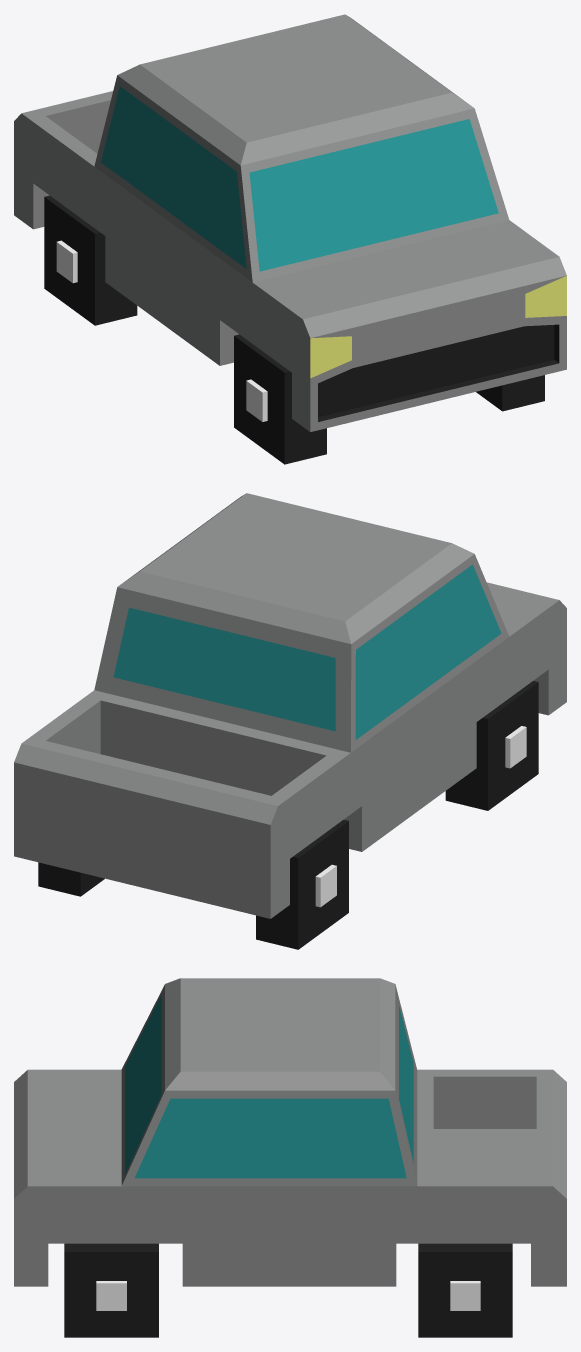
Rendered from Car.FBX.
The picture shows the model from 3 angles, top to bottom: view 1: azimuth 30°, elevation 25°; view 2: azimuth 150°, elevation 25°; view 3: azimuth 270°, elevation 25°; orthographic projection. The views are drawn at different scales.
Parts seen in each view (by area): view 1: Box001; view 2: Box001; view 3: Box001.
Part boxes in pixels (left/top/right/bottom): Box001: left=14, top=14, right=566, bottom=464; Box001: left=14, top=493, right=566, bottom=949; Box001: left=14, top=978, right=566, bottom=1337.
Bounding box in the file's own units: 21.05 × 20.14 × 40.
